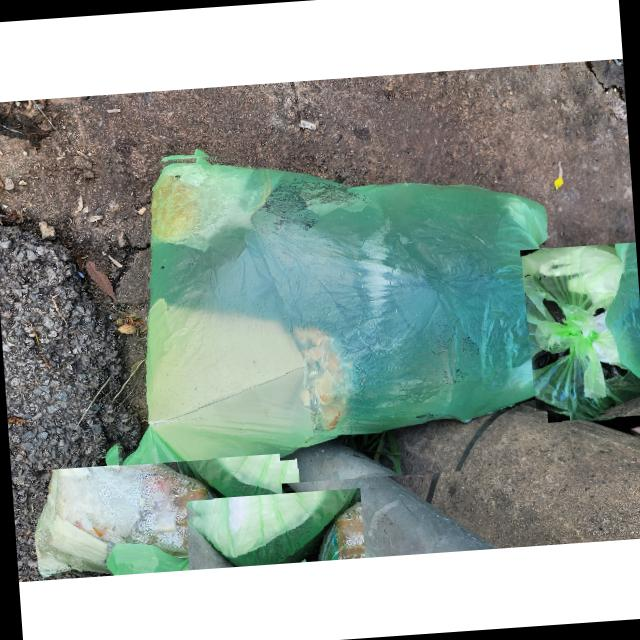general_trashbag: (117, 156, 565, 494), (34, 463, 282, 576), (520, 244, 640, 414), (185, 488, 358, 566)
